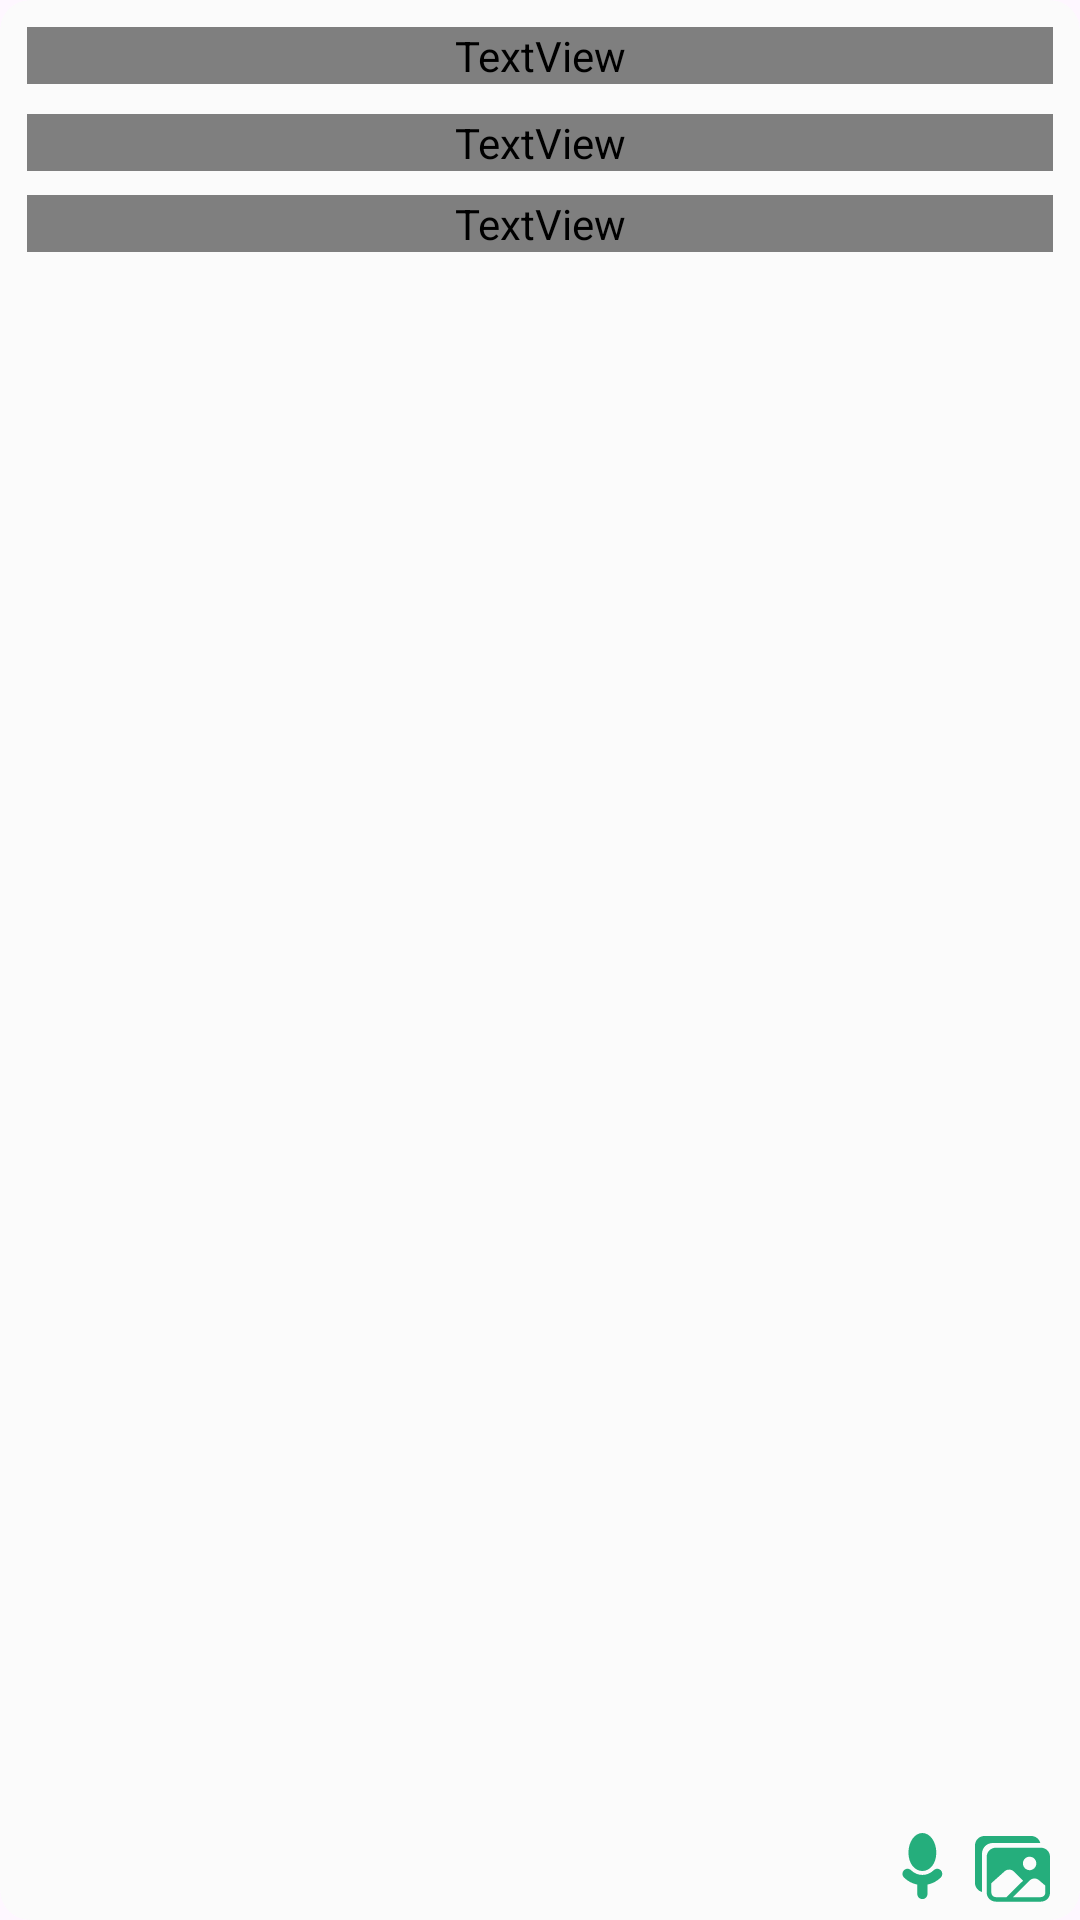

Screen size 1080×1920. Icon name, then its box in pixels as Rect(x1, y1, x2, y2):
gallery home: Rect(975, 1836, 1050, 1902)
micnote: Rect(902, 1833, 943, 1899)
